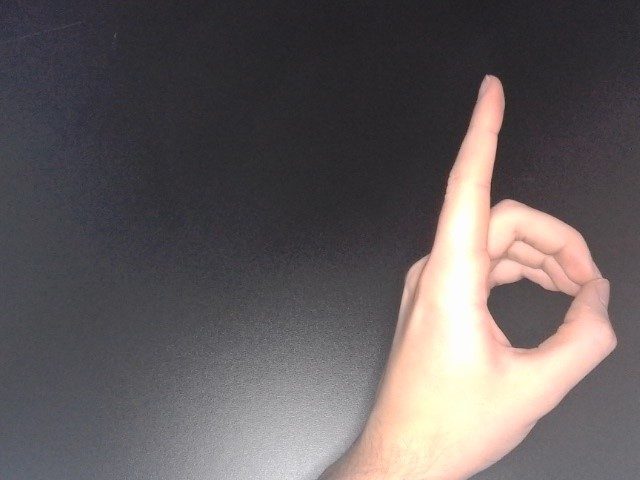d: (359, 70, 622, 473)
